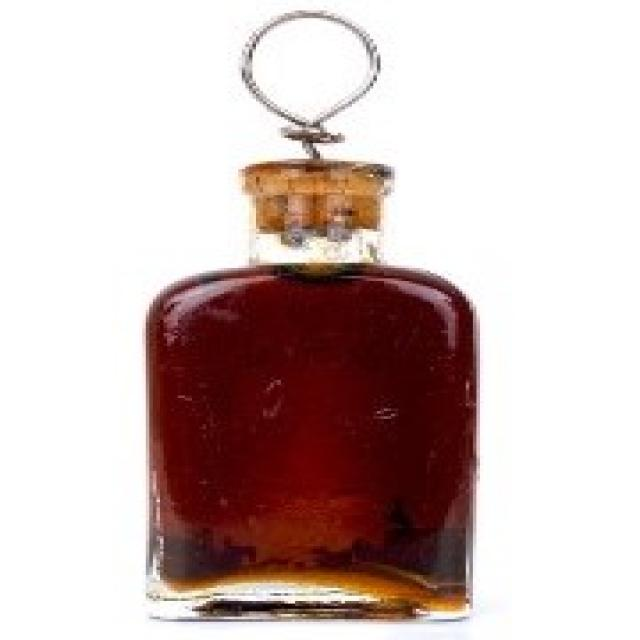electronic: (121, 154, 497, 631)
